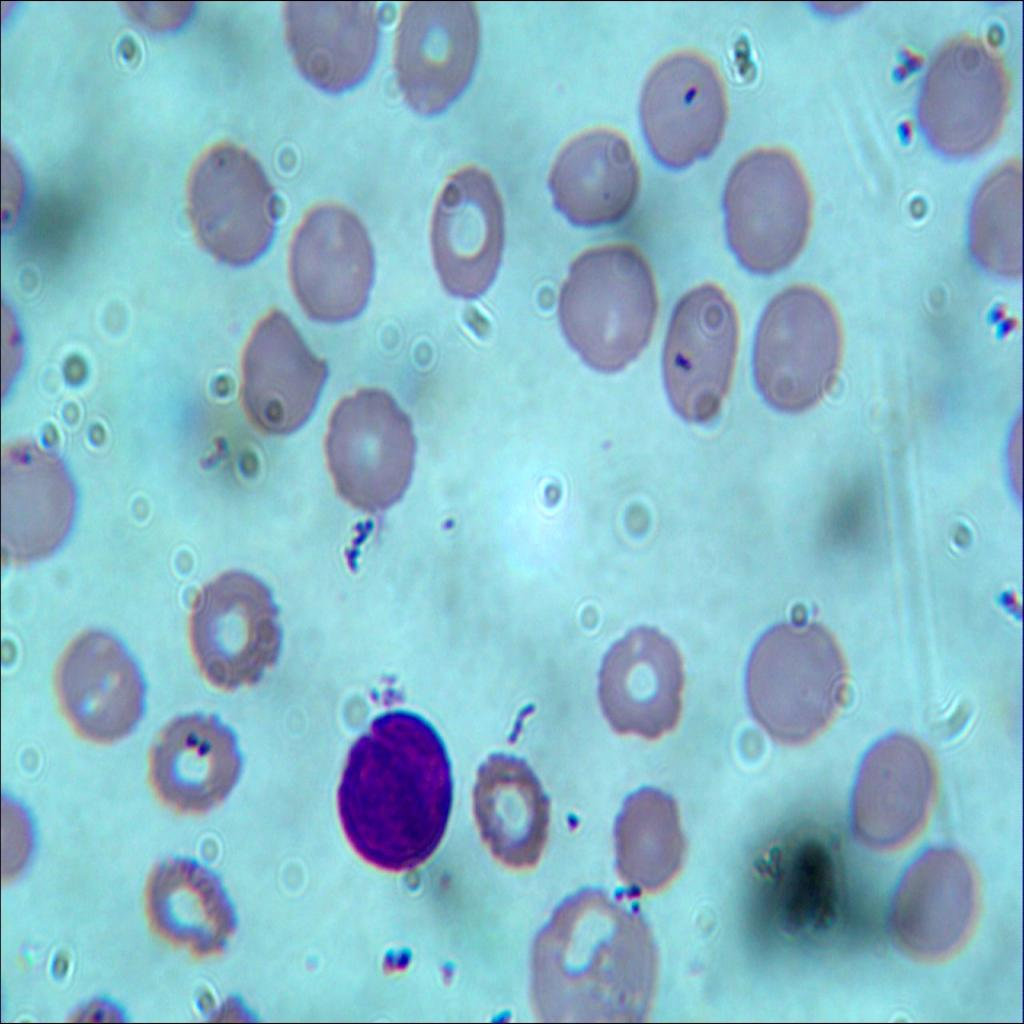Eritrosit: (520, 898, 666, 1023), (741, 612, 858, 758), (326, 368, 418, 530), (44, 618, 158, 748), (179, 128, 286, 266), (182, 554, 282, 698), (901, 29, 1009, 162), (423, 157, 519, 305), (886, 828, 986, 970), (553, 248, 661, 372), (279, 208, 382, 337), (844, 712, 938, 852), (135, 705, 249, 811), (754, 290, 848, 417), (722, 144, 819, 266), (543, 119, 638, 242), (595, 616, 686, 744), (395, 0, 484, 130), (662, 272, 738, 423), (0, 428, 78, 575), (138, 854, 238, 966), (229, 311, 323, 429), (636, 54, 726, 174), (602, 776, 696, 890), (470, 742, 552, 868), (281, 0, 371, 97), (954, 156, 1023, 282)
Limfoblast: (338, 705, 454, 878)
Platelet: (666, 337, 702, 378), (888, 111, 918, 157), (894, 45, 928, 82), (380, 938, 406, 977), (678, 77, 704, 115), (618, 888, 646, 922), (995, 312, 1023, 346), (432, 506, 458, 536), (561, 799, 583, 834), (994, 586, 1018, 611), (986, 298, 1006, 325), (176, 728, 198, 751), (196, 738, 215, 759), (444, 952, 459, 978)
